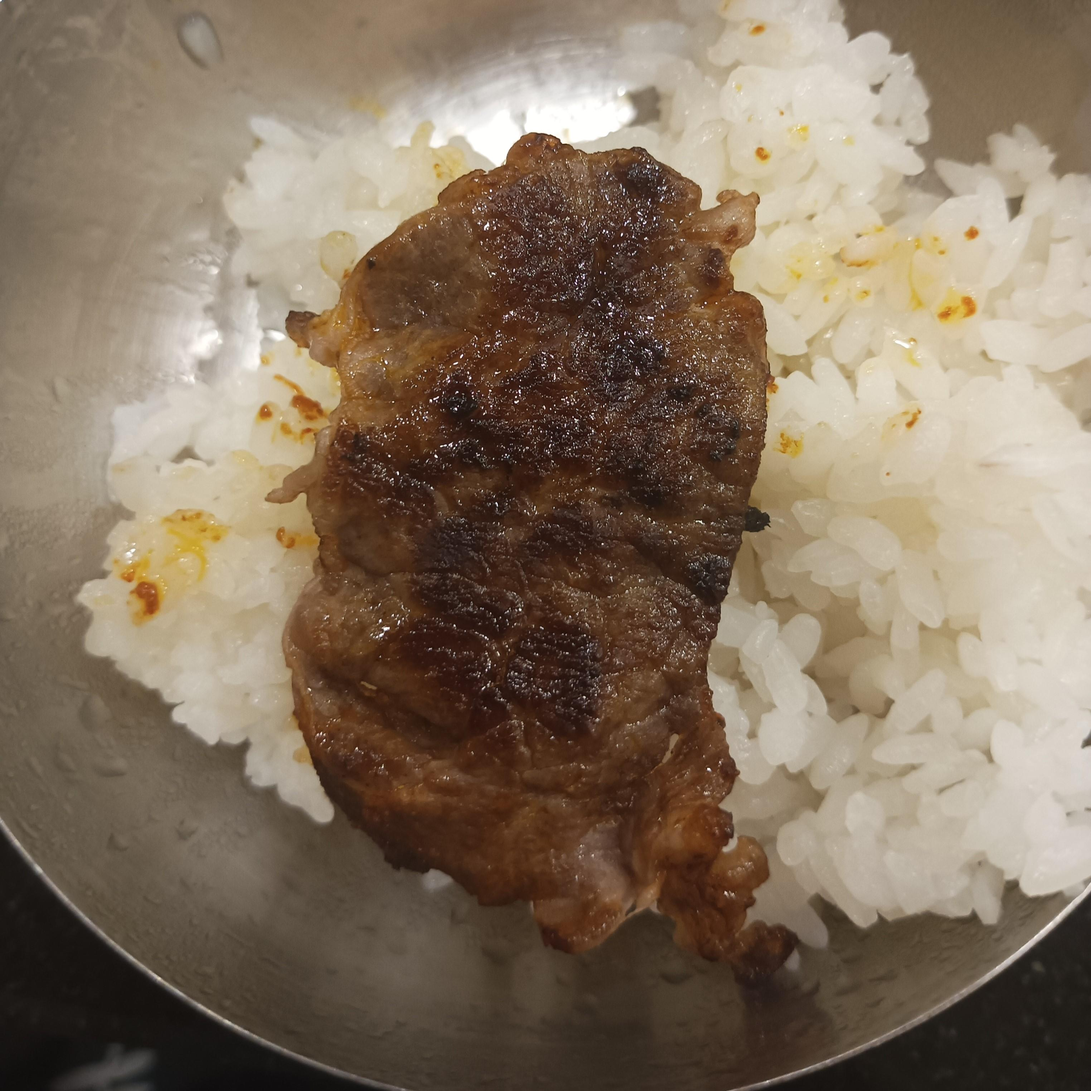Overcooked: (268, 135, 794, 979)
